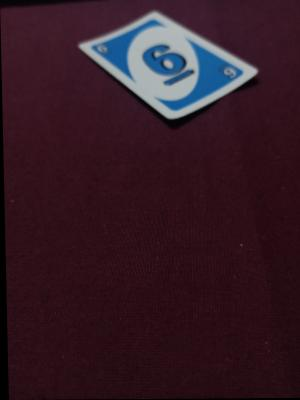blue: (93, 41, 232, 87)
